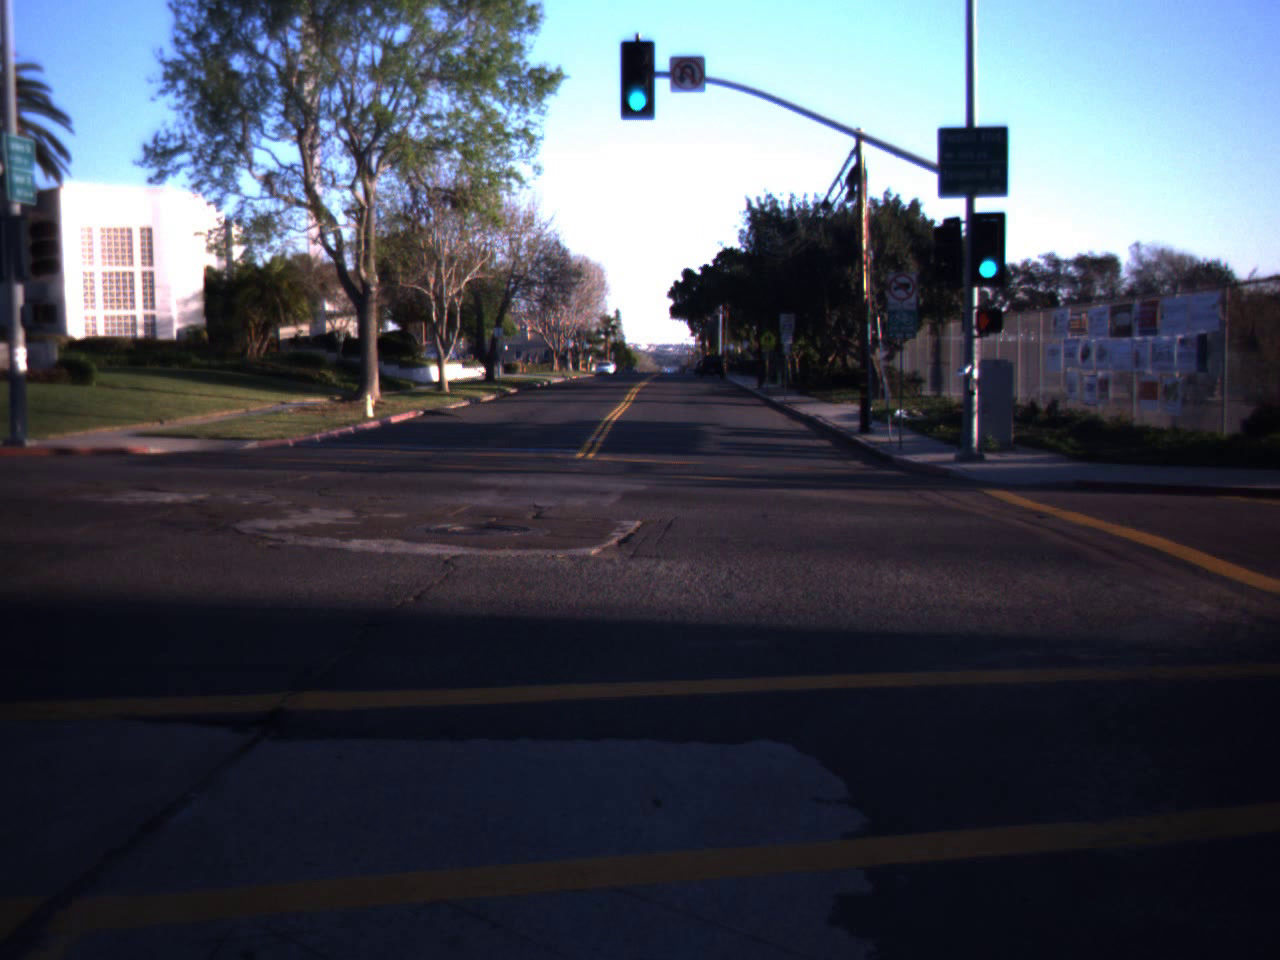go: (615, 29, 660, 119), (964, 205, 1012, 285)
